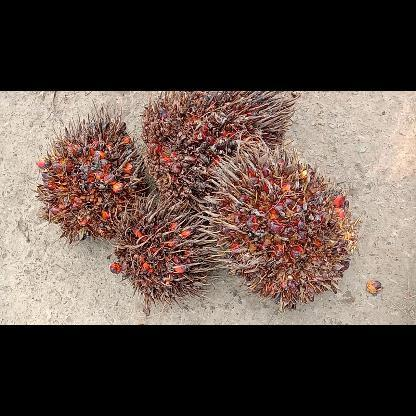Terlalu masak: (194, 141, 364, 316), (138, 91, 302, 207), (32, 105, 156, 247), (107, 186, 225, 310)
